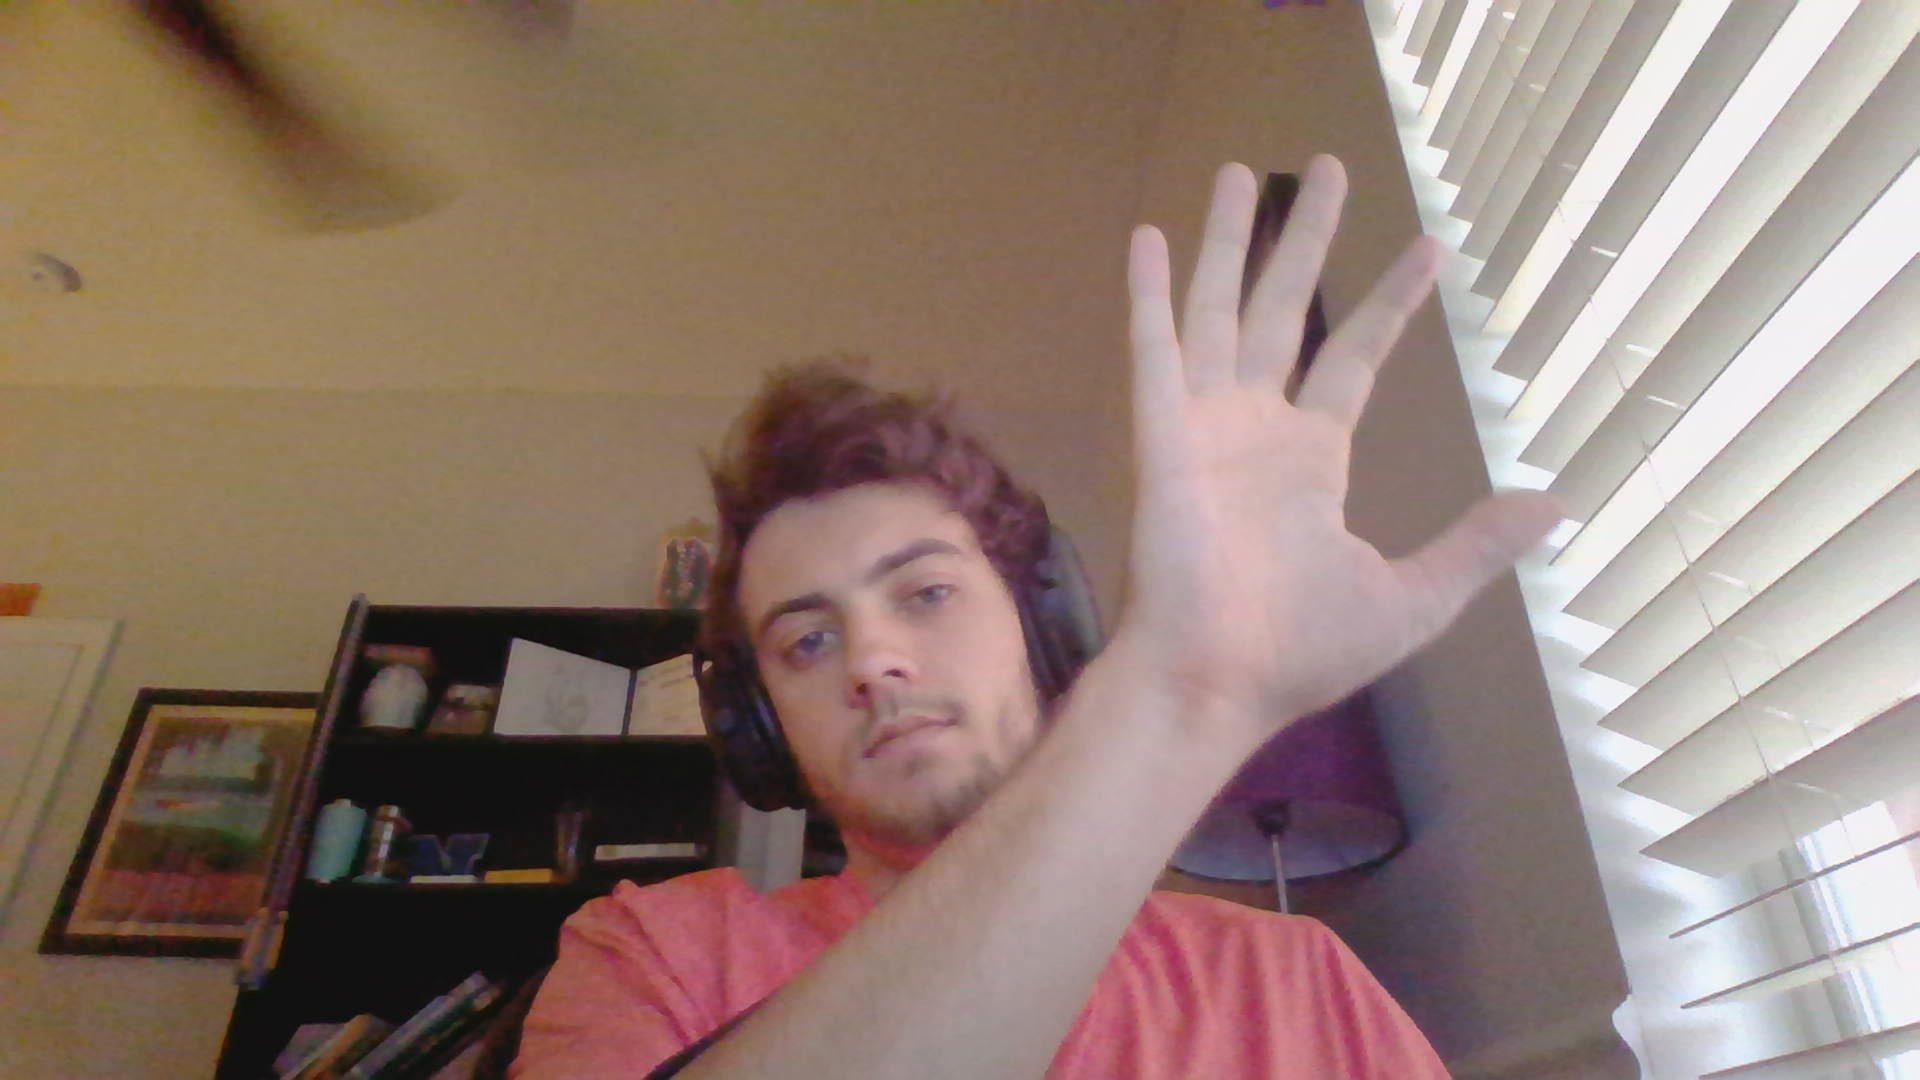Right Palm Up: (1087, 145, 1571, 702)
